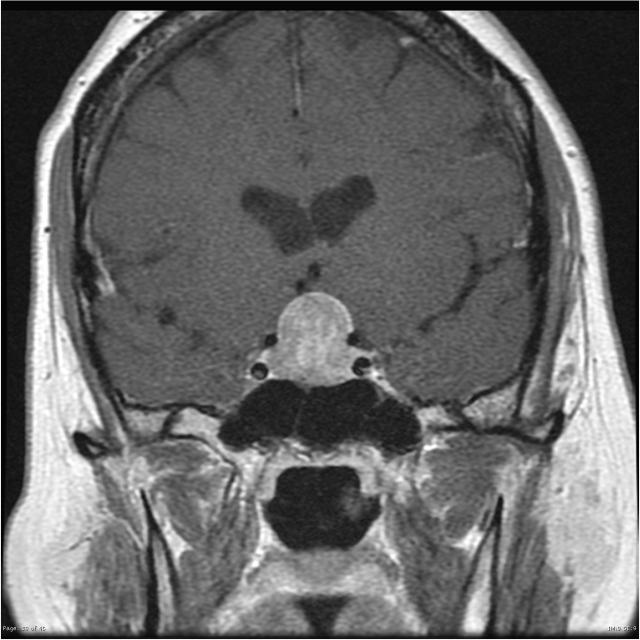pituitary: (262, 276, 376, 398)
